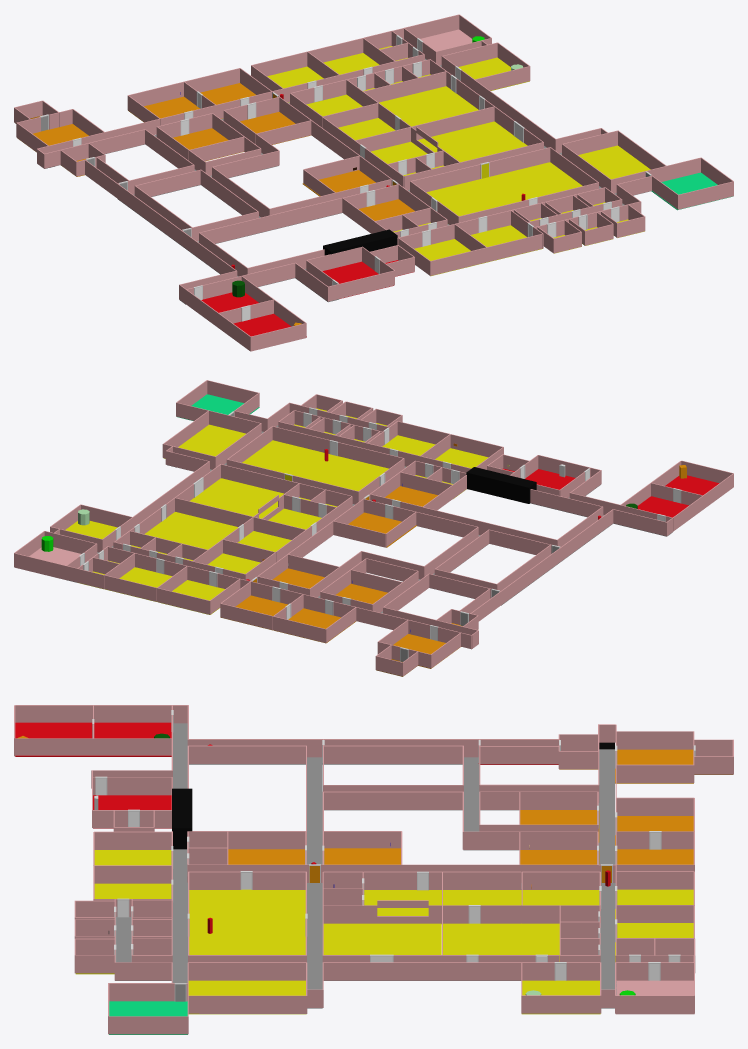
Rendered from BunkerGameMap.fbx.
The picture shows the model from 3 angles, top to bottom: view 1: azimuth 30°, elevation 25°; view 2: azimuth 150°, elevation 25°; view 3: azimuth 270°, elevation 25°; orthographic projection. The views are drawn at different scales.
Visible parts, largest first — view 1: floor 7.5x7.5.002, floor 7.5x7.5.000, floor 7.5x7.5.001, Cube.209, floor 7.5x7.5.003, Cube.214, Cube.151, Cube.155, Cube.199, demolishedpath.001, Cube.193, Cube.191 (+55 smaller); view 2: floor 7.5x7.5.002, floor 7.5x7.5.000, floor 7.5x7.5.001, Cube.209, demolishedpath.001, floor 7.5x7.5.003, Cube.152, Cube.151, Cube.199, Cube.155, Cube.194, Cube.192 (+57 smaller); view 3: floor 7.5x7.5.002, floor 7.5x7.5.000, Cube.155, floor 7.5x7.5.001, Hallway.012, Cube.206, Cube.208, Cube.209, Cube.198, Cube.201, Cube.213, floor 7.5x7.5.003 (+96 smaller).
Boxes of the visible parts, box(x1,y1,x2,y2) form: floor 7.5x7.5.002: box(427, 162, 582, 216); floor 7.5x7.5.000: box(418, 121, 527, 162); floor 7.5x7.5.001: box(379, 86, 478, 126); Cube.209: box(117, 184, 236, 274); floor 7.5x7.5.003: box(578, 145, 650, 179); Cube.214: box(266, 198, 342, 230); Cube.151: box(412, 106, 494, 139); Cube.155: box(474, 80, 556, 150); Cube.199: box(610, 157, 701, 193); demolishedpath.001: box(323, 229, 397, 255); Cube.193: box(410, 164, 480, 192); Cube.191: box(489, 147, 550, 176); floor 7.5x7.5.002: box(242, 440, 388, 491); floor 7.5x7.5.000: box(190, 478, 283, 518); floor 7.5x7.5.001: box(144, 512, 237, 549); Cube.209: box(501, 509, 613, 604); demolishedpath.001: box(466, 467, 536, 503); floor 7.5x7.5.003: box(163, 424, 245, 458); Cube.152: box(221, 464, 298, 493); Cube.151: box(175, 498, 252, 526); Cube.199: box(176, 402, 260, 433); Cube.155: box(133, 461, 209, 527); Cube.194: box(338, 442, 404, 468); Cube.192: box(272, 426, 329, 453); floor 7.5x7.5.002: box(189, 889, 305, 954); floor 7.5x7.5.000: box(323, 923, 441, 954); Cube.155: box(322, 962, 521, 980); floor 7.5x7.5.001: box(443, 923, 559, 961); Hallway.012: box(172, 723, 187, 982); Cube.206: box(323, 791, 462, 809); Cube.208: box(323, 745, 462, 763); Cube.209: box(188, 739, 478, 757); Cube.198: box(188, 962, 306, 980); Cube.201: box(188, 995, 305, 1013); Cube.213: box(188, 745, 305, 763); floor 7.5x7.5.003: box(188, 980, 306, 1014).
Bounding box in the file's own units: 9330 × 327 × 9111.
